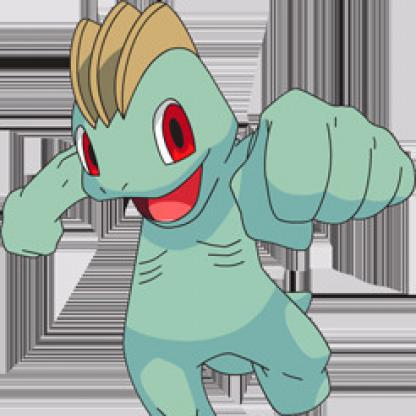Machop: (4, 1, 416, 416)
